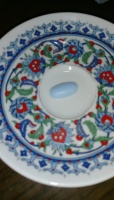Apranax: (49, 81, 79, 100)
